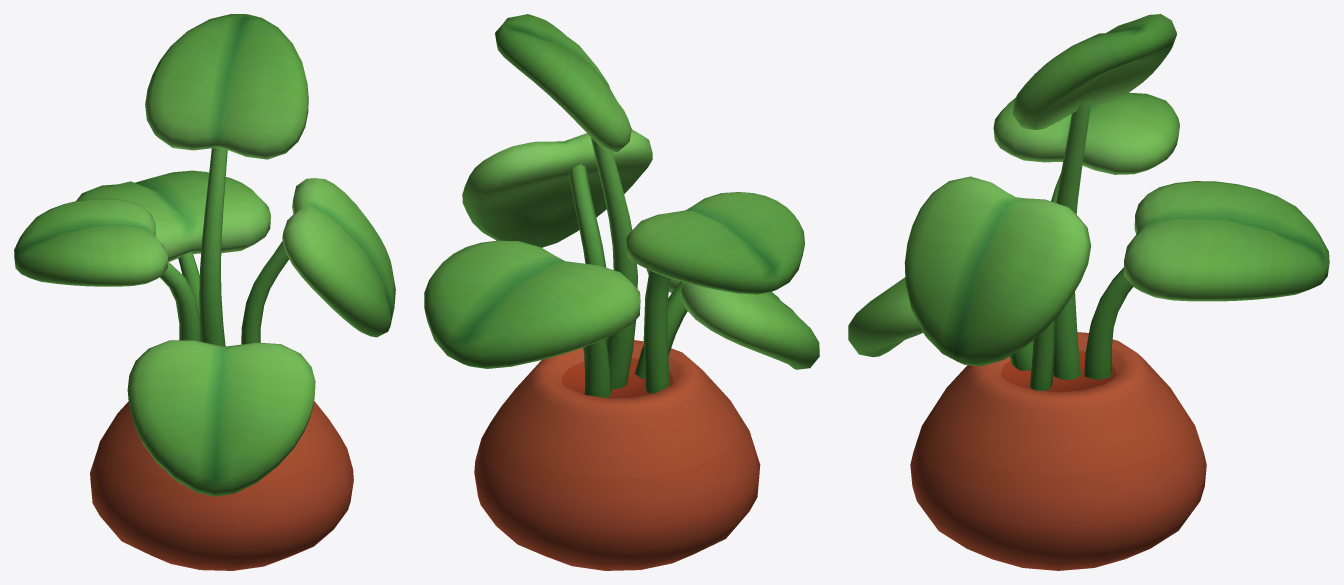
Rendered from Plants_11.glb.
3 renders of one model, left to right at view 1: azimuth 30°, elevation 25°; view 2: azimuth 150°, elevation 25°; view 3: azimuth 270°, elevation 25°, orthographic. The views are drawn at different scales.
Parts seen in each view (by area): view 1: Plants_11; view 2: Plants_11; view 3: Plants_11.
Boxes of the visible parts, box(x1,y1,x2,y2) form: Plants_11: box(14, 14, 395, 570); Plants_11: box(424, 14, 819, 570); Plants_11: box(848, 14, 1329, 570).
Size of the model in its own units: 0.2538 by 0.3501 by 0.2857.
Materials: 1 (1 with a texture image).
